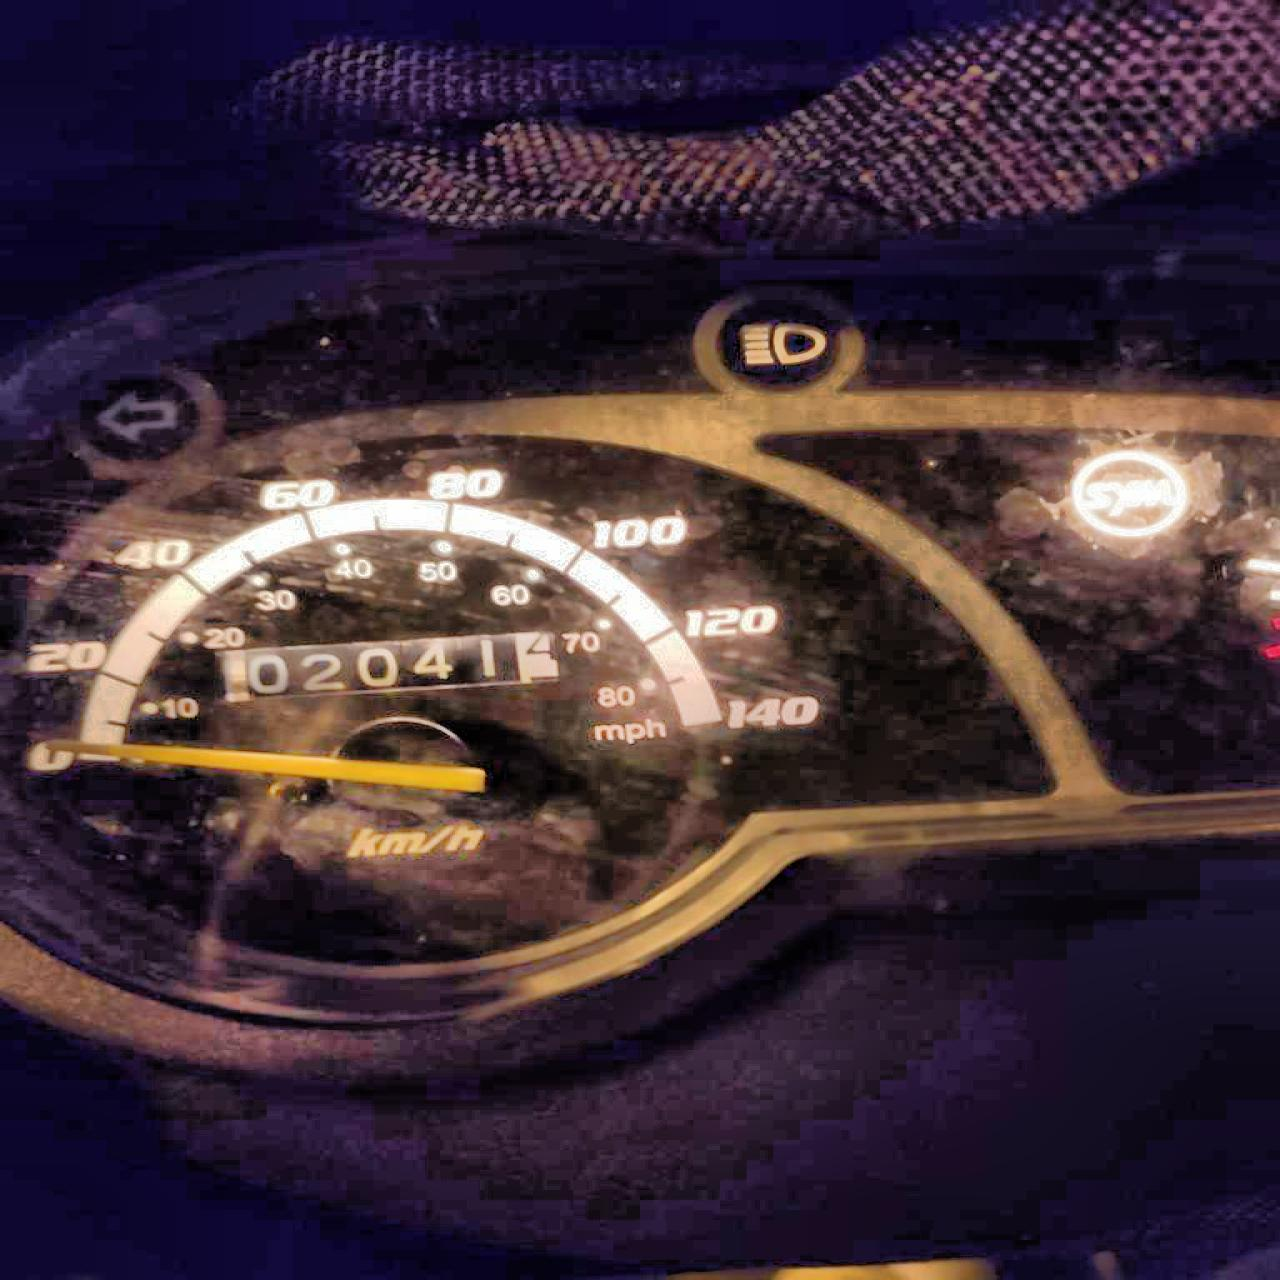0: (349, 645, 399, 690), (244, 652, 288, 694), (222, 626, 246, 646)
1: (475, 634, 501, 680)
2: (298, 648, 347, 692)
4: (408, 640, 455, 680), (519, 628, 558, 663)
odometer: (219, 625, 564, 704)
